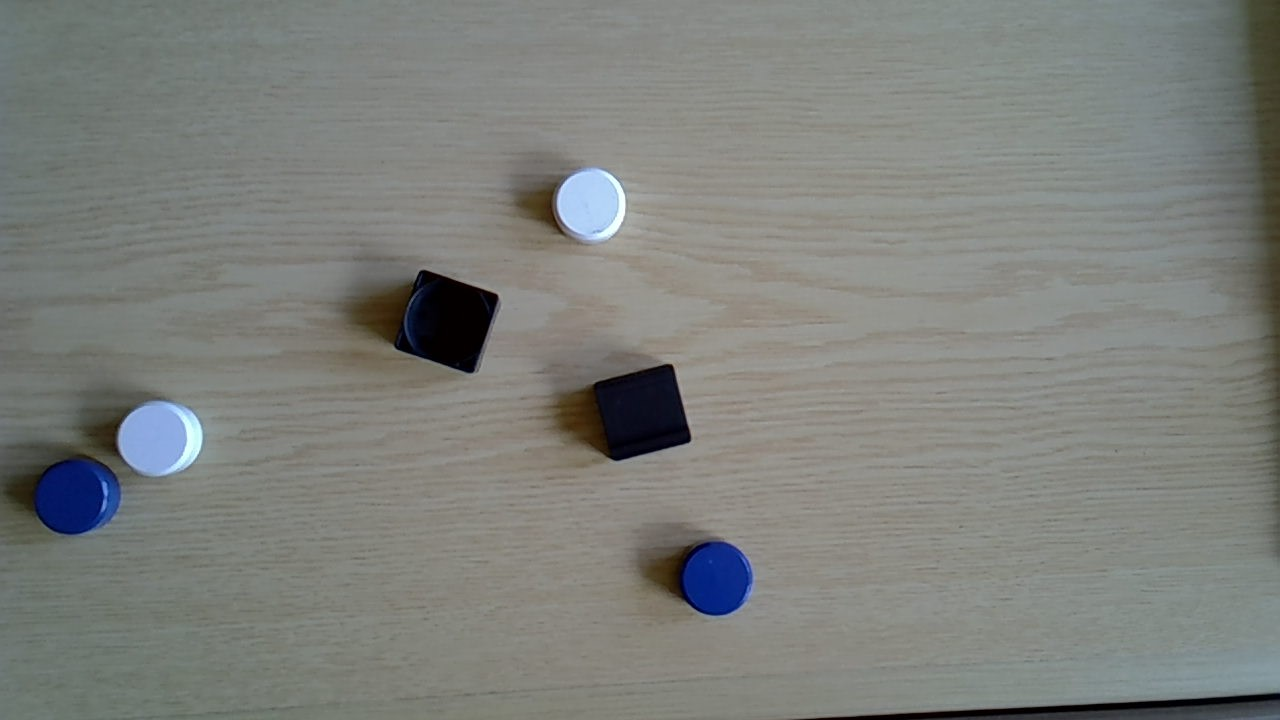Behaelter: (396, 270, 500, 377), (591, 363, 693, 461)
WerkStueck: (114, 397, 206, 477), (34, 457, 121, 535), (678, 540, 756, 618), (552, 166, 626, 245)
